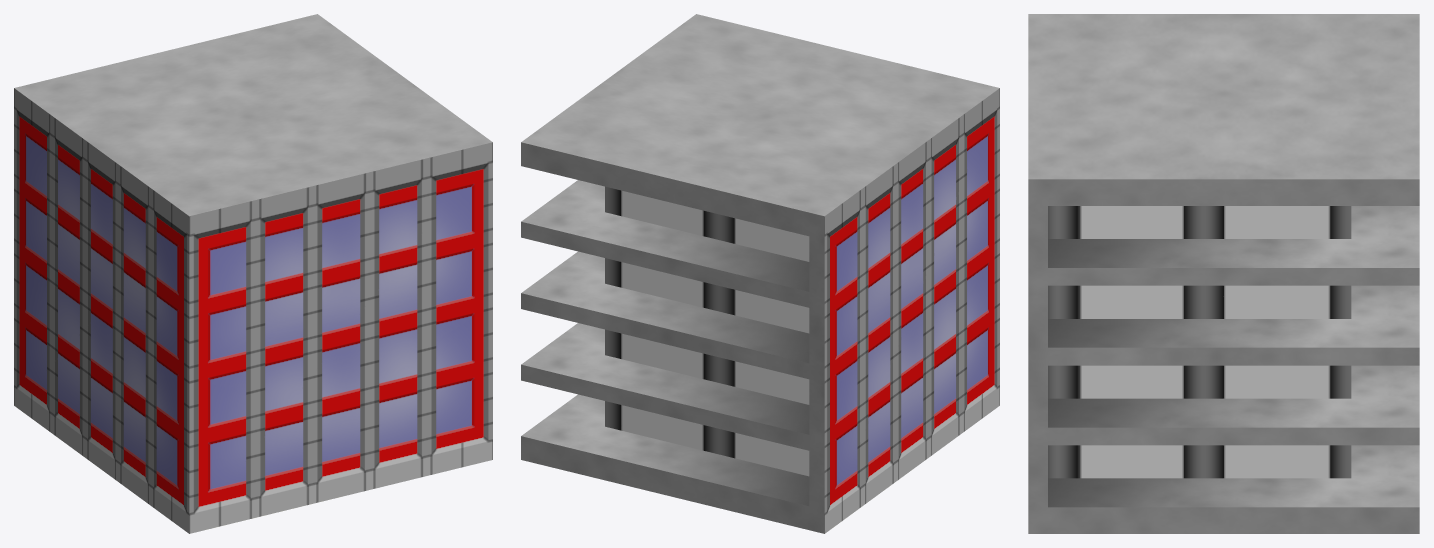
File: BlockApartment2.FBX
3 renders of one model, left to right at view 1: azimuth 30°, elevation 25°; view 2: azimuth 150°, elevation 25°; view 3: azimuth 270°, elevation 25°, orthographic. The views are drawn at different scales.
Parts seen in each view (by area): view 1: Object004; view 2: Object004; view 3: Object004.
Part boxes in pixels (bbox=[...]): Object004: bbox=[14, 14, 492, 533]; Object004: bbox=[521, 14, 999, 533]; Object004: bbox=[1028, 14, 1419, 533].
Size of the model in its own units: 10 by 10 by 10.
Materials: 2 (2 with a texture image).
